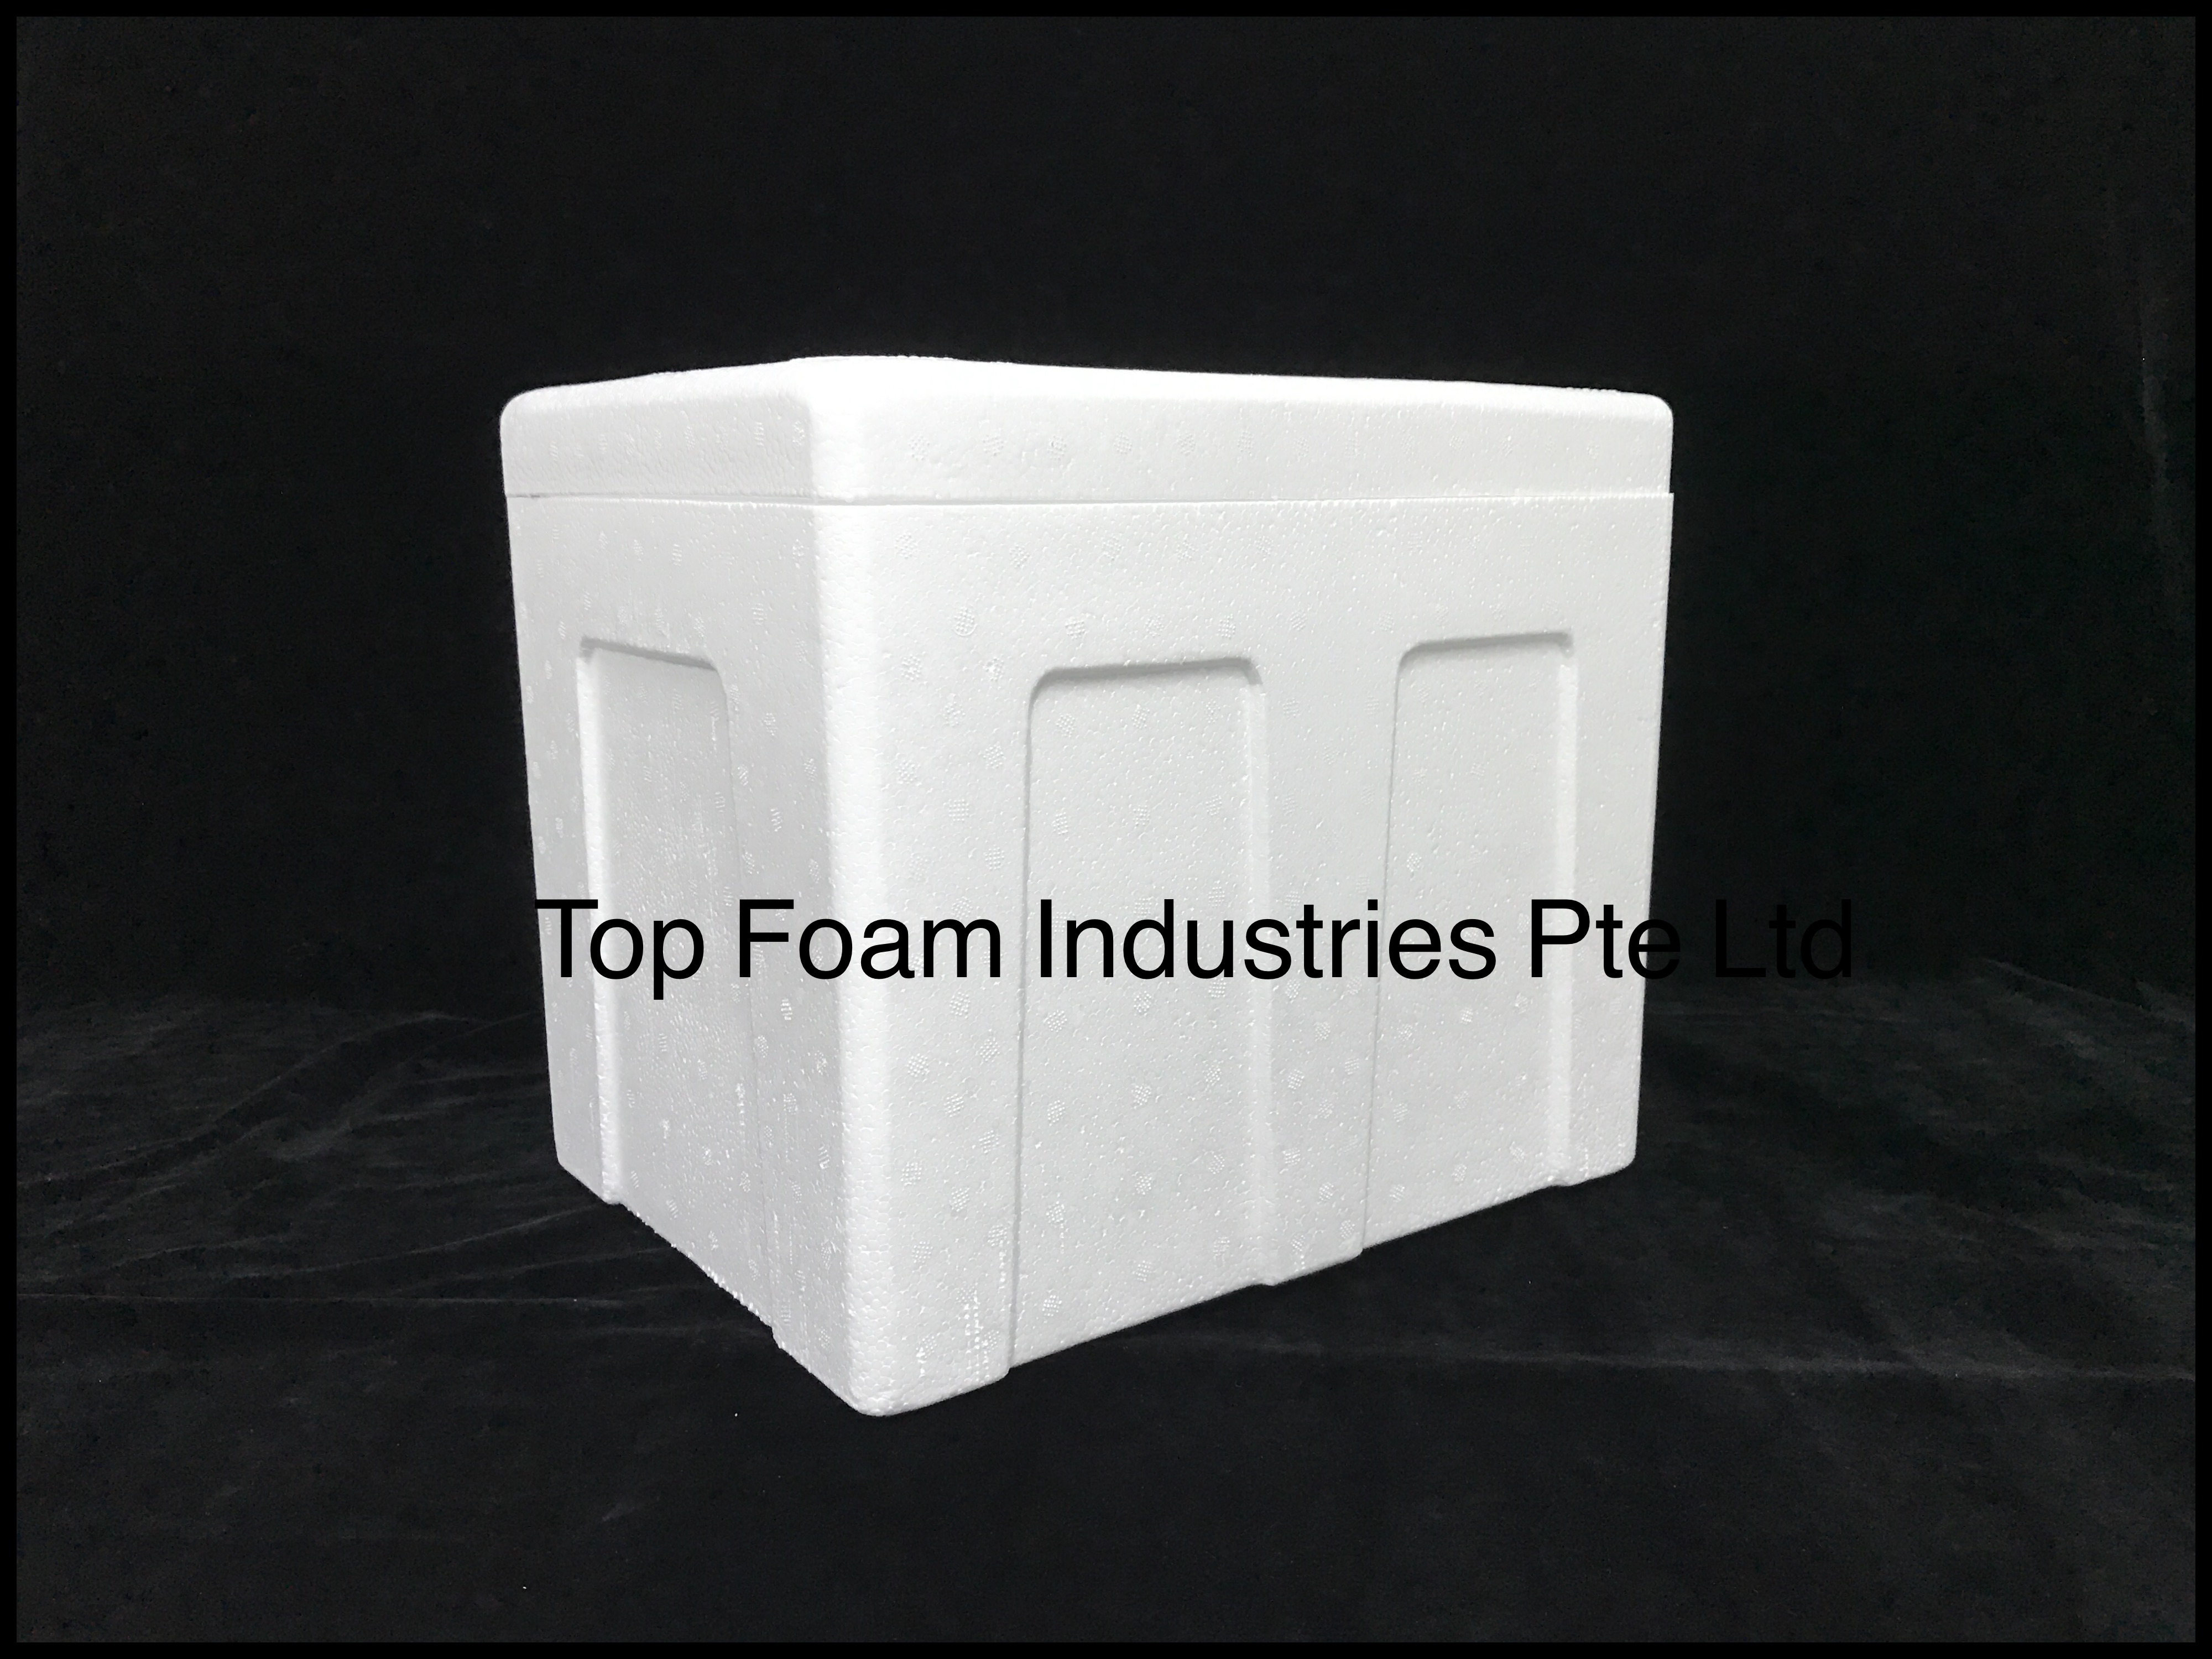Foam Box: (477, 317, 1705, 1427)
